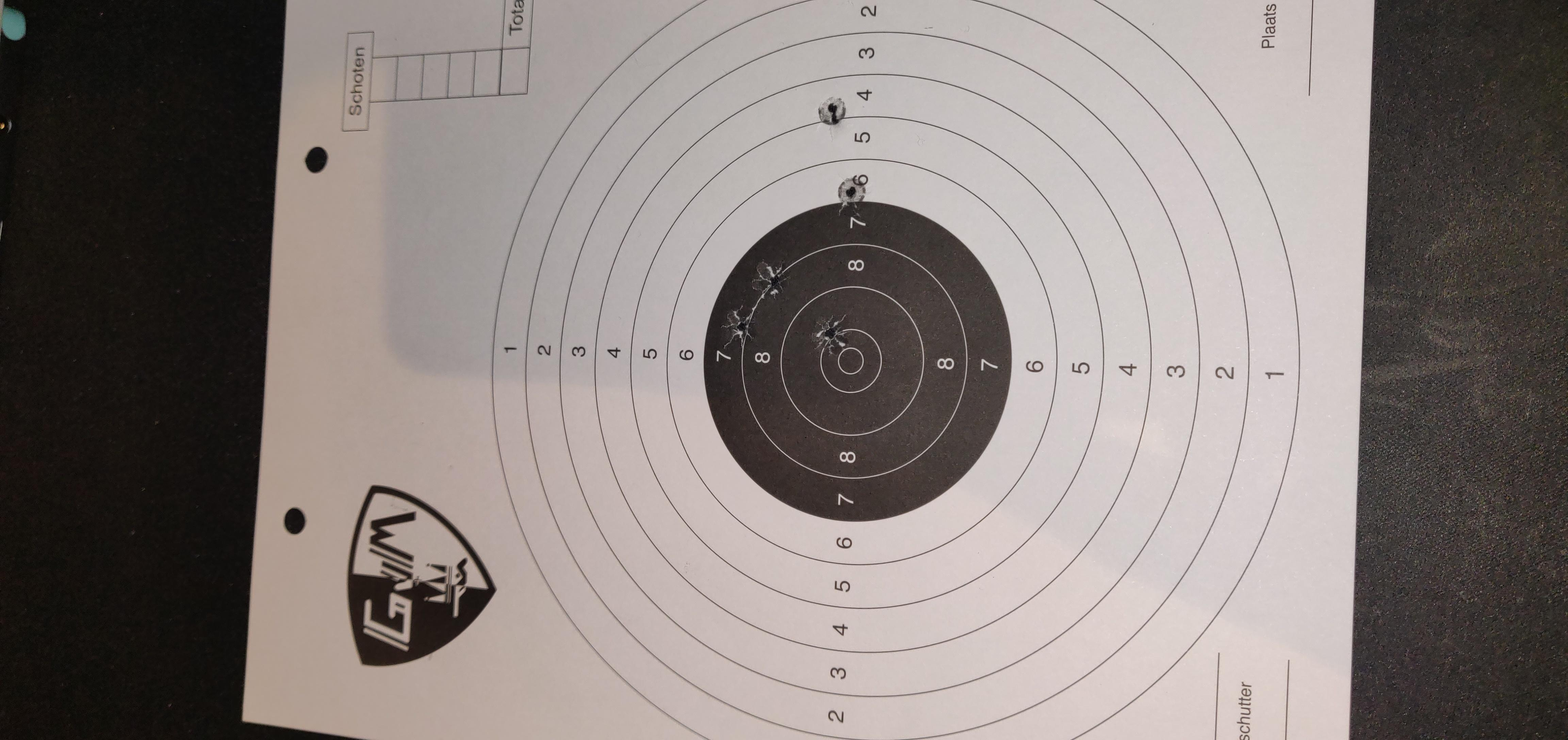hole: (821, 340, 926, 358), (930, 354, 1022, 373), (815, 382, 906, 401), (1283, 385, 1363, 400), (1114, 394, 1193, 409)
